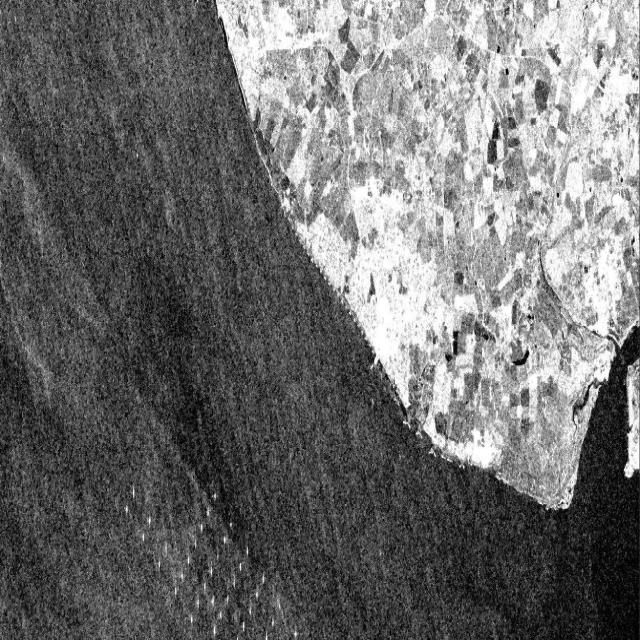look-alike: (125, 248, 232, 490), (582, 481, 639, 633)
